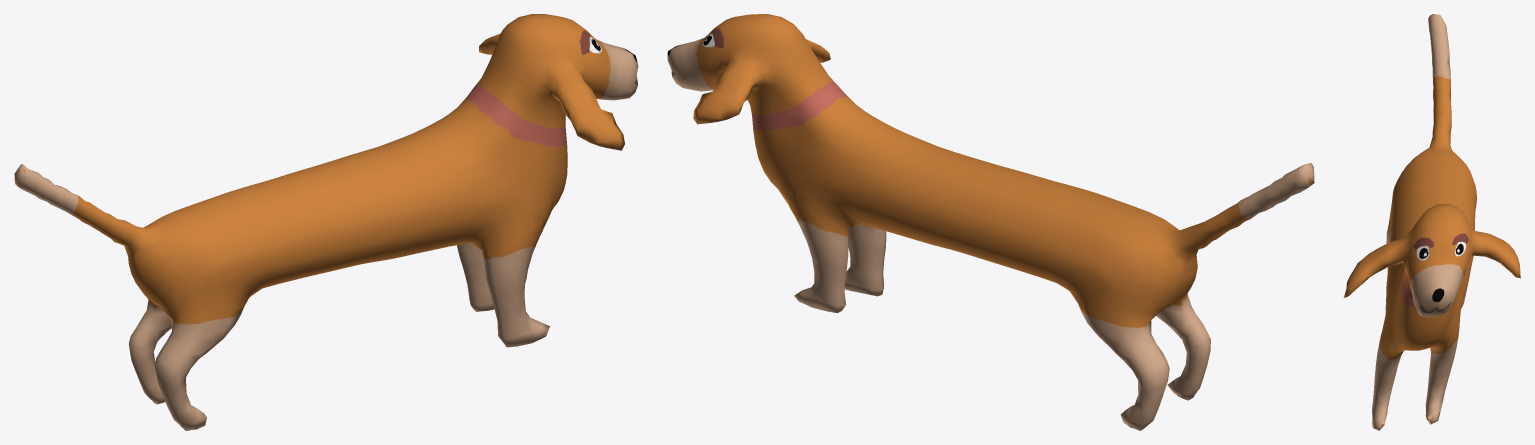
Rendered from dog_aug_4.obj.
3 views of the same model, side by side, from view 1: azimuth 30°, elevation 25°; view 2: azimuth 150°, elevation 25°; view 3: azimuth 270°, elevation 25° (orthographic). The views are drawn at different scales.
Bounding box in the file's own units: 107 × 49.51 × 31.82.
Materials: 1 (1 with a texture image).
